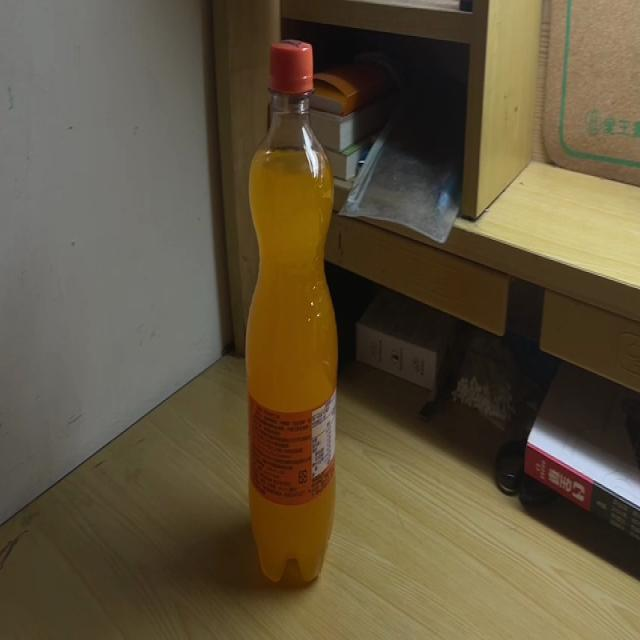Fanta: (242, 40, 339, 583)
